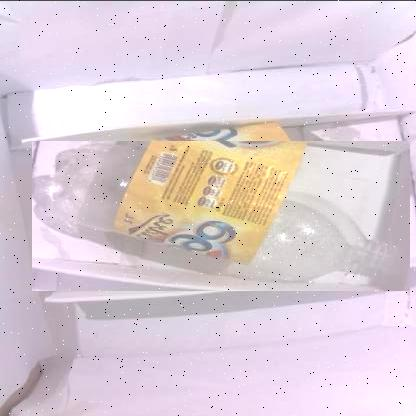Plastic Bottle: (32, 140, 410, 290)
